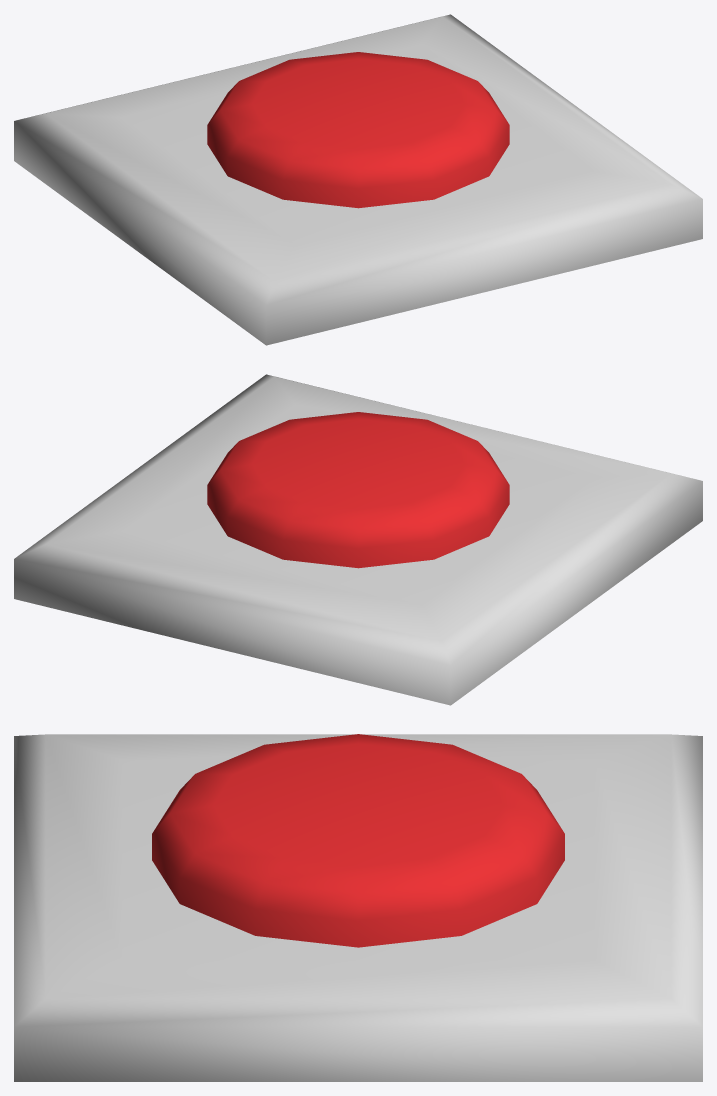
Rendered from graybox button.fbx.
3 views of the same model, one above another, from view 1: azimuth 30°, elevation 25°; view 2: azimuth 150°, elevation 25°; view 3: azimuth 270°, elevation 25° (orthographic). The views are drawn at different scales.
Parts seen in each view (by area): view 1: Button; view 2: Button; view 3: Button.
Boxes of the visible parts, box(x1,y1,x2,y2) form: Button: box(14, 14, 702, 345); Button: box(14, 374, 702, 705); Button: box(14, 734, 702, 1081).
Bounding box in the file's own units: 0.7385 × 0.1549 × 0.7385.
